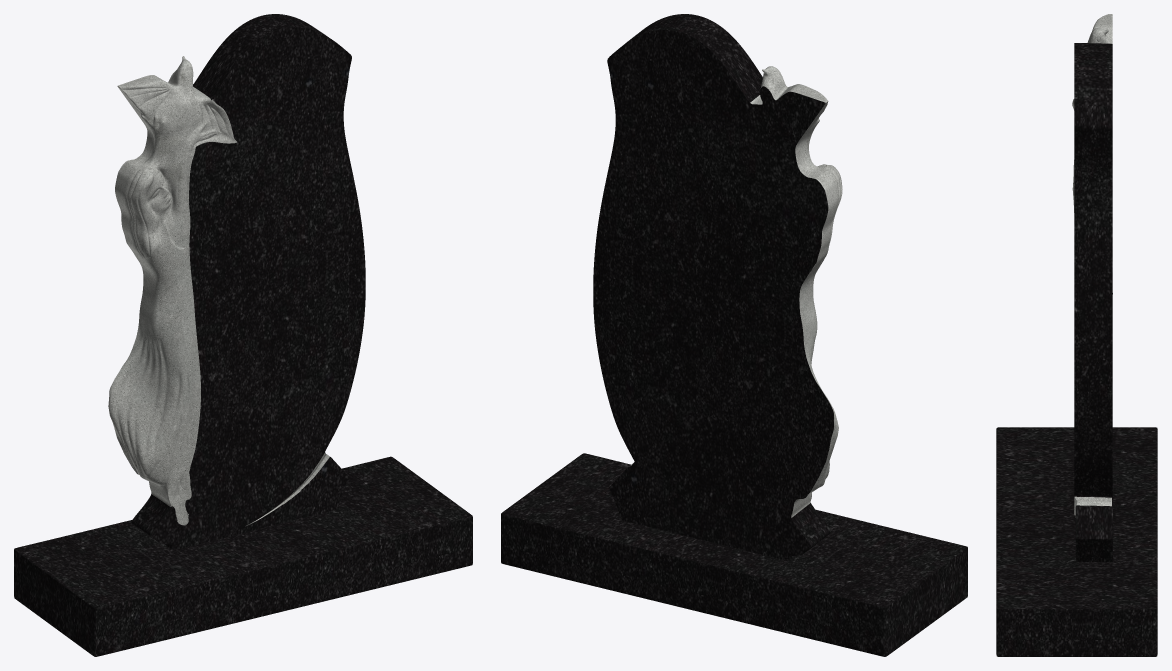
File: number 43.gltf
3 views of the same model, side by side, from view 1: azimuth 30°, elevation 25°; view 2: azimuth 150°, elevation 25°; view 3: azimuth 270°, elevation 25° (orthographic). The views are drawn at different scales.
Parts seen in each view (by area): view 1: Plane.003; view 2: Plane.003; view 3: Plane.003.
Part boxes in pixels (<box>): Plane.003: <box>14,14,472,656</box>; Plane.003: <box>501,14,967,656</box>; Plane.003: <box>996,14,1157,656</box>.
Bounding box in the file's own units: 0.7995 × 1.1 × 0.3.
Materials: 2 (2 with a texture image).
